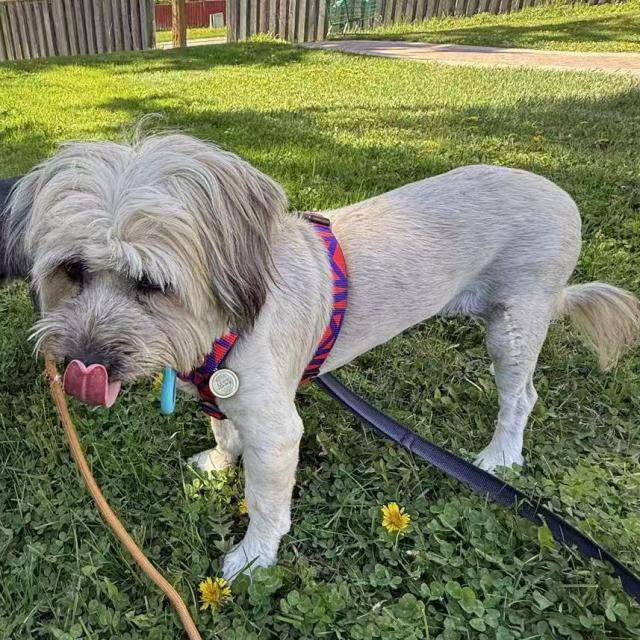Poodle_dog: (0, 118, 292, 414)
